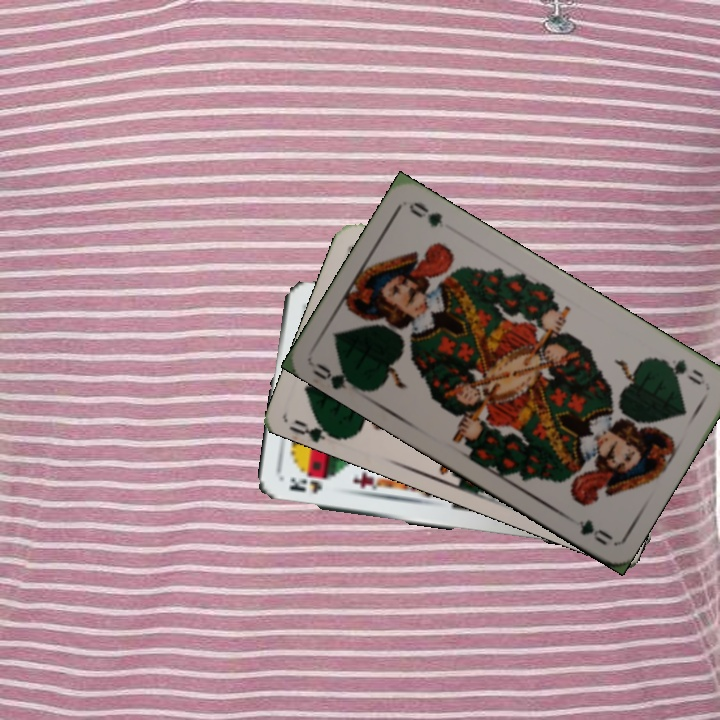GO: (309, 358, 365, 394), (287, 411, 346, 443), (654, 354, 707, 388)
SK: (285, 473, 325, 497)
